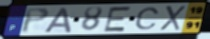8: (79, 6, 104, 33)
A: (43, 7, 73, 34)
C: (134, 7, 161, 31)
E: (102, 6, 134, 33)
P: (20, 7, 51, 34)
X: (158, 5, 187, 31)
